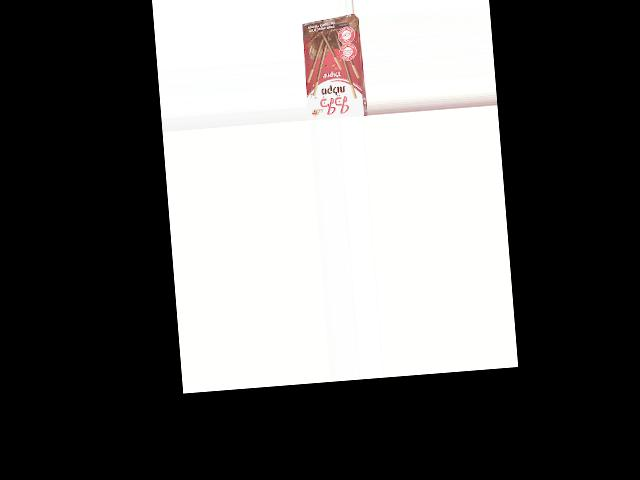chocolate: (300, 20, 366, 120)
